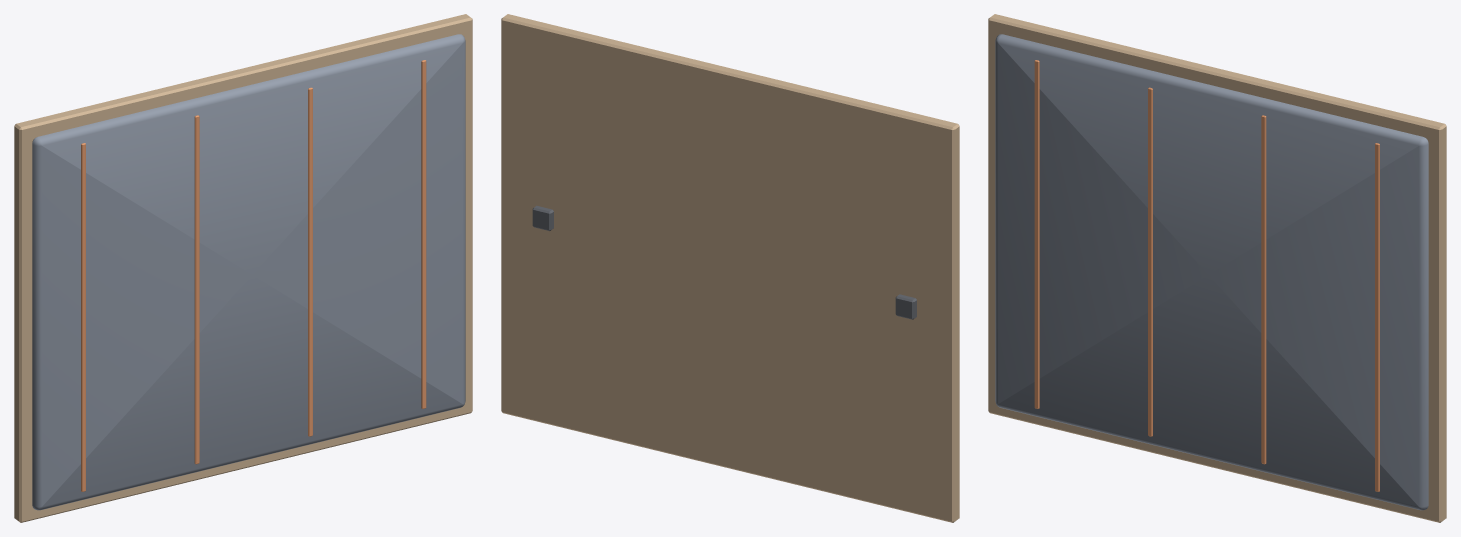
Rendered from downtown-office-interiors-felt-wall-panel-e30c69c0__17055.glb.
The picture shows the model from 3 angles, left to right: view 1: azimuth 30°, elevation 25°; view 2: azimuth 150°, elevation 25°; view 3: azimuth 330°, elevation 25°; orthographic projection.
Visible parts, largest first — view 1: felt-wall-panel; view 2: felt-wall-panel; view 3: felt-wall-panel.
Boxes of the visible parts, bbox=[...] form: felt-wall-panel: bbox=[14, 14, 472, 522]; felt-wall-panel: bbox=[501, 14, 959, 522]; felt-wall-panel: bbox=[988, 14, 1446, 522].
Bounding box in the file's own units: 1.2 × 1 × 0.086.
